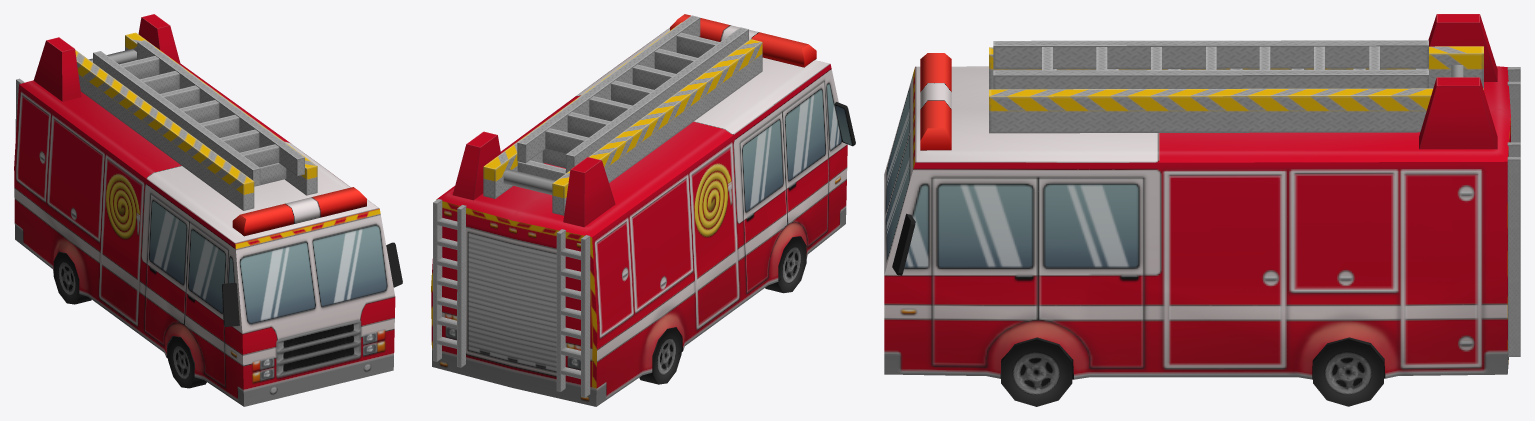
The model's file is firetruck.glb.
The picture shows the model from 3 angles, left to right: view 1: azimuth 30°, elevation 25°; view 2: azimuth 150°, elevation 25°; view 3: azimuth 270°, elevation 25°; orthographic projection. The views are drawn at different scales.
Visible parts, largest first — view 1: car06, ladder2, ladder, binding, long_red, car06_wheel04, car06_wheel02; view 2: car06, ladder2, ladder, binding, ladder2_1, ladder2_, long_red, car06_wheel02, car06_wheel04; view 3: car06, ladder, ladder2, binding, car06_wheel03, car06_wheel01, long_red, ladder2_, ladder2_1.
Boxes of the visible parts, x1=… form: car06: x1=14, y1=63, x2=402, y2=406; ladder2: x1=93, y1=40, x2=304, y2=186; ladder: x1=75, y1=32, x2=317, y2=210; binding: x1=33, y1=14, x2=180, y2=101; long_red: x1=232, y1=187, x2=366, y2=236; car06_wheel04: x1=168, y1=336, x2=206, y2=388; car06_wheel02: x1=53, y1=252, x2=91, y2=304; car06: x1=431, y1=28, x2=855, y2=406; ladder2: x1=517, y1=15, x2=748, y2=172; ladder: x1=483, y1=22, x2=762, y2=215; binding: x1=452, y1=131, x2=615, y2=227; ladder2_1: x1=556, y1=229, x2=590, y2=397; ladder2_: x1=433, y1=199, x2=466, y2=367; long_red: x1=670, y1=14, x2=816, y2=67; car06_wheel02: x1=639, y1=327, x2=681, y2=384; car06_wheel04: x1=765, y1=236, x2=806, y2=293; car06: x1=884, y1=66, x2=1510, y2=379; ladder: x1=989, y1=46, x2=1483, y2=133; ladder2: x1=993, y1=40, x2=1428, y2=89; binding: x1=1419, y1=14, x2=1497, y2=149; car06_wheel03: x1=1001, y1=337, x2=1072, y2=406; car06_wheel01: x1=1313, y1=337, x2=1383, y2=406; long_red: x1=920, y1=53, x2=951, y2=150; ladder2_: x1=1507, y1=142, x2=1520, y2=356; ladder2_1: x1=1507, y1=67, x2=1520, y2=142.
Size of the model in its own units: 2.38 by 2.82 by 5.39.
Materials: 1 (1 with a texture image).
